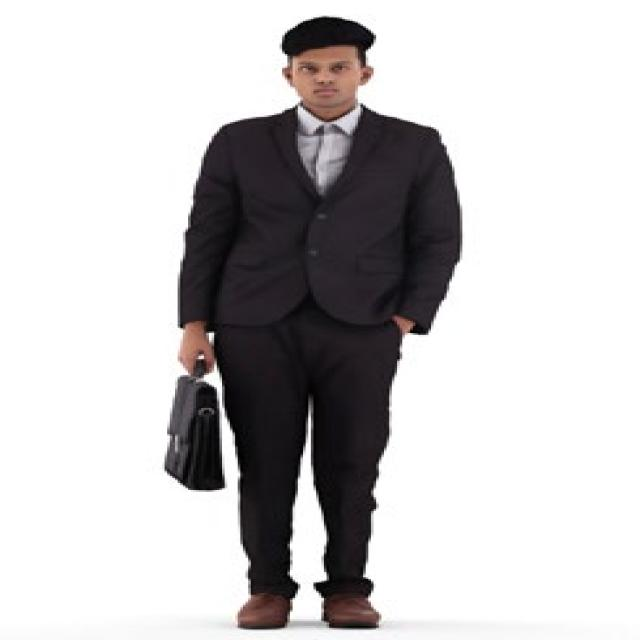standing: (174, 15, 472, 630)
